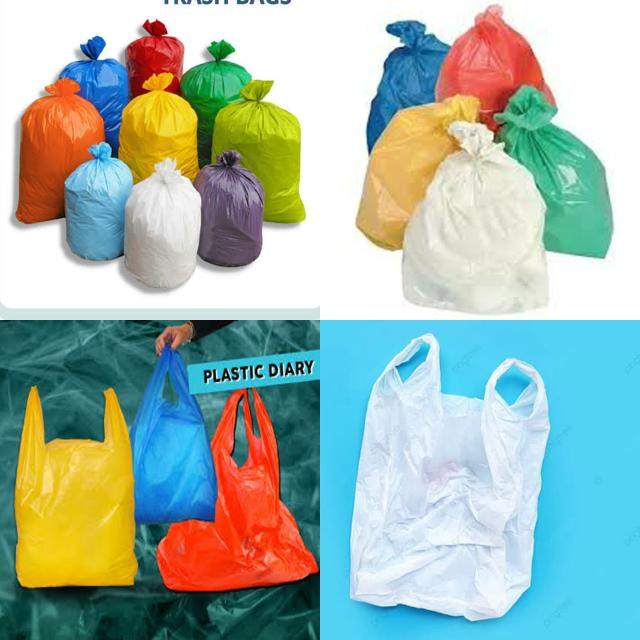Single-layer Plastic: (350, 334, 550, 620), (158, 389, 318, 591), (402, 121, 548, 314), (15, 386, 138, 588), (495, 86, 612, 258), (356, 95, 480, 250), (130, 346, 218, 524), (435, 5, 555, 131), (212, 80, 305, 222), (16, 79, 105, 224), (366, 21, 450, 152), (124, 158, 201, 289), (119, 72, 199, 184), (181, 40, 251, 168), (59, 36, 129, 158), (194, 150, 265, 266), (65, 142, 132, 261), (125, 20, 184, 97)
